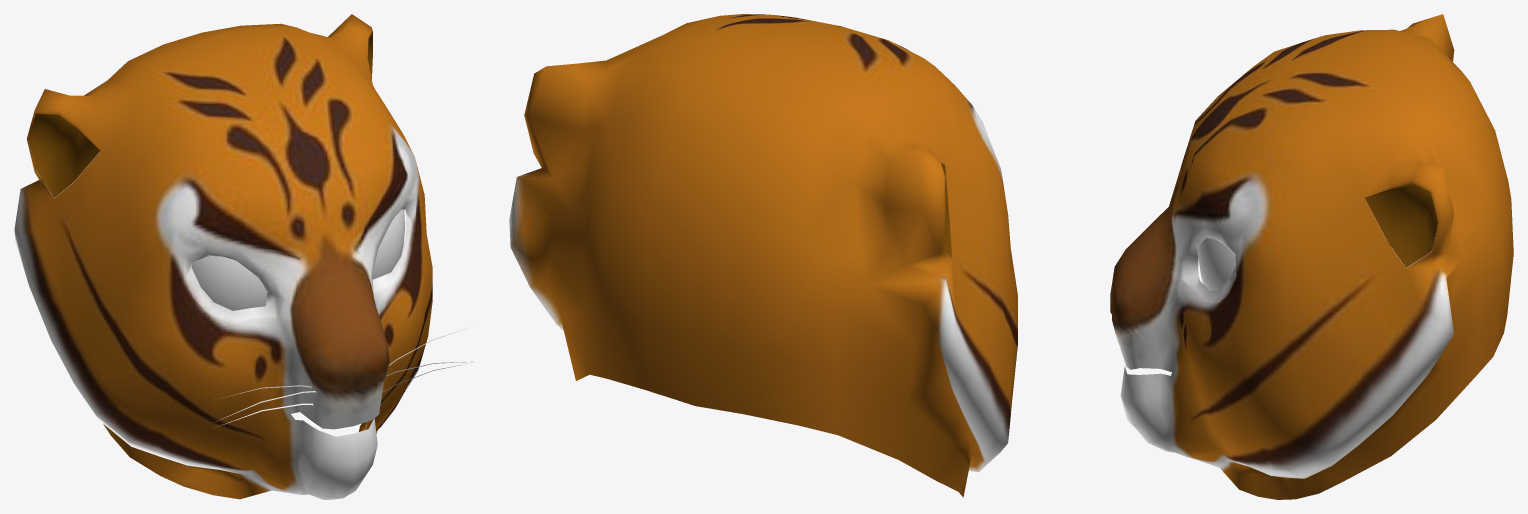
Rendered from tiger_mask.glb.
3 views of the same model, side by side, from view 1: azimuth 30°, elevation 25°; view 2: azimuth 150°, elevation 25°; view 3: azimuth 270°, elevation 25° (orthographic). The views are drawn at different scales.
Parts seen in each view (by area): view 1: TigerHead; view 2: TigerHead; view 3: TigerHead.
Part boxes in pixels (<box>): TigerHead: <box>14,14,473,499</box>; TigerHead: <box>509,14,1017,497</box>; TigerHead: <box>1110,14,1513,499</box>.
Bounding box in the file's own units: 2.2 × 2.26 × 2.04.
4 materials, 1 textured.
